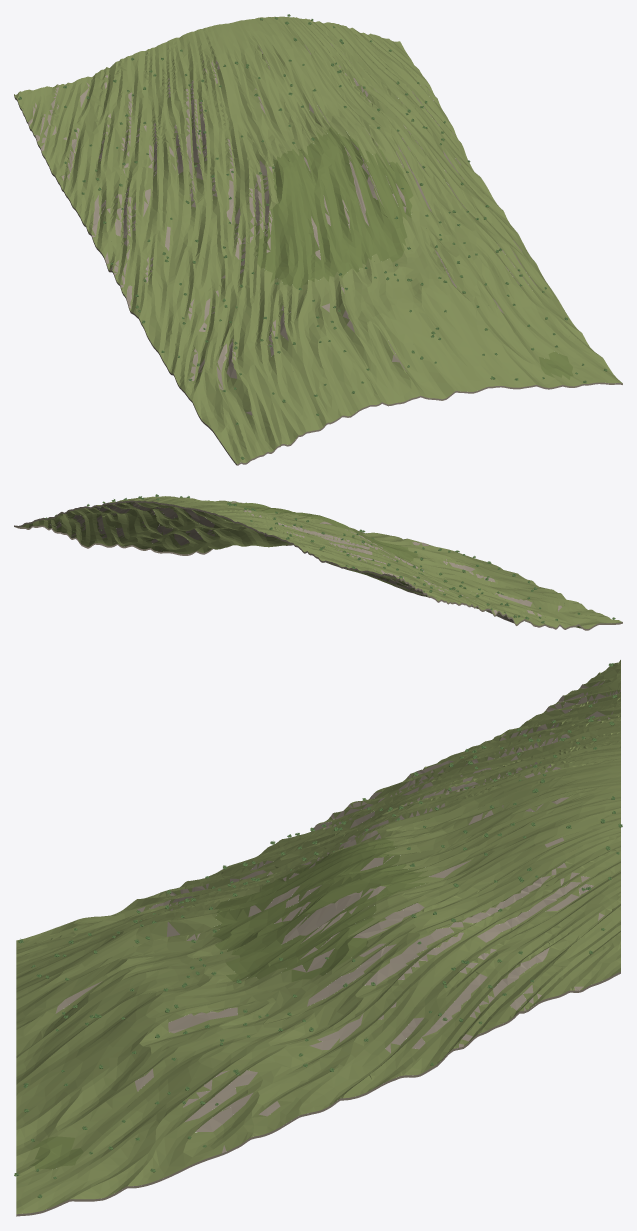
The model's file is parca_+6_-7-yakin.glb.
3 views of the same model, one above another, from view 1: azimuth 30°, elevation 25°; view 2: azimuth 150°, elevation 25°; view 3: azimuth 270°, elevation 25° (orthographic). The views are drawn at different scales.
Visible parts, largest first — view 1: parca_+6_-7_arazi, parca_+6_-7_bitkiler; view 2: parca_+6_-7_arazi, parca_+6_-7_bitkiler; view 3: parca_+6_-7_arazi, parca_+6_-7_bitkiler.
Boxes of the visible parts, x1=… form: parca_+6_-7_arazi: x1=14, y1=16, x2=622, y2=465; parca_+6_-7_bitkiler: x1=18, y1=14, x2=607, y2=459; parca_+6_-7_arazi: x1=14, y1=496, x2=622, y2=630; parca_+6_-7_bitkiler: x1=44, y1=494, x2=615, y2=623; parca_+6_-7_arazi: x1=16, y1=660, x2=620, y2=1216; parca_+6_-7_bitkiler: x1=14, y1=663, x2=622, y2=1198.
Bounding box in the file's own units: 1003 × 599 × 1007.
